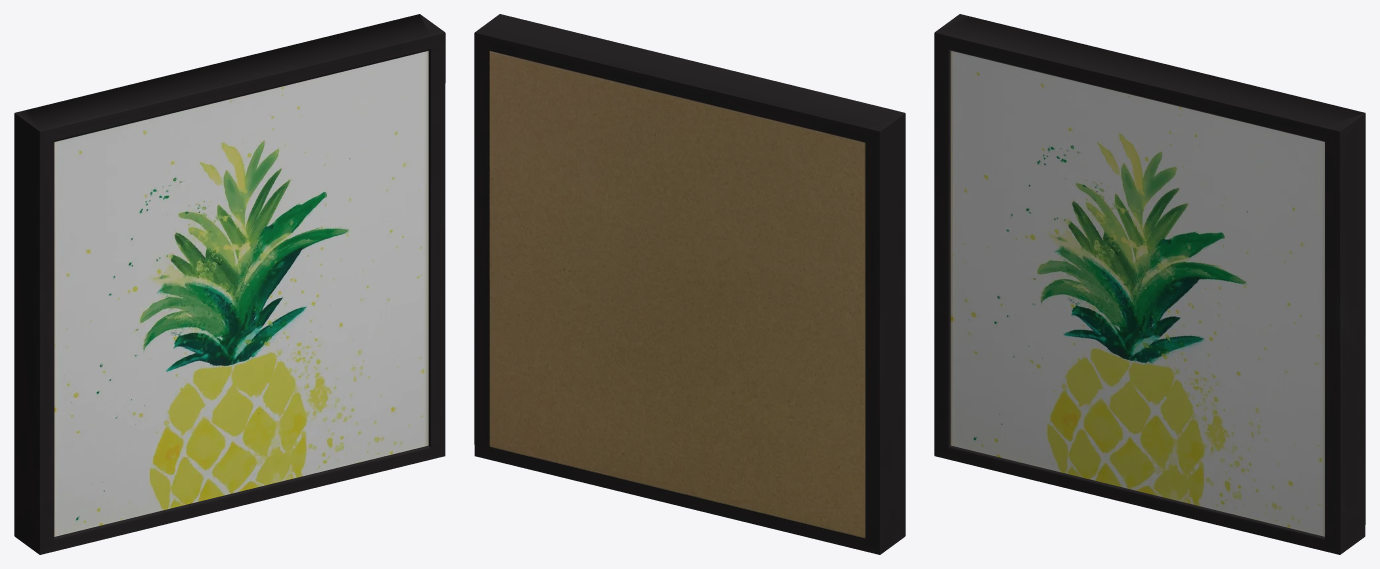
The model's file is B073P6FYRY.glb.
The picture shows the model from 3 angles, left to right: view 1: azimuth 30°, elevation 25°; view 2: azimuth 150°, elevation 25°; view 3: azimuth 330°, elevation 25°; orthographic projection.
Parts seen in each view (by area): view 1: RootNode; view 2: RootNode; view 3: RootNode.
Part boxes in pixels (left/top/right/bottom): RootNode: left=14, top=14, right=445, bottom=554; RootNode: left=474, top=14, right=905, bottom=554; RootNode: left=934, top=14, right=1365, bottom=554.
Size of the model in its own units: 0.3049 by 0.3043 by 0.0332.
Materials: 1 (1 with a texture image).
